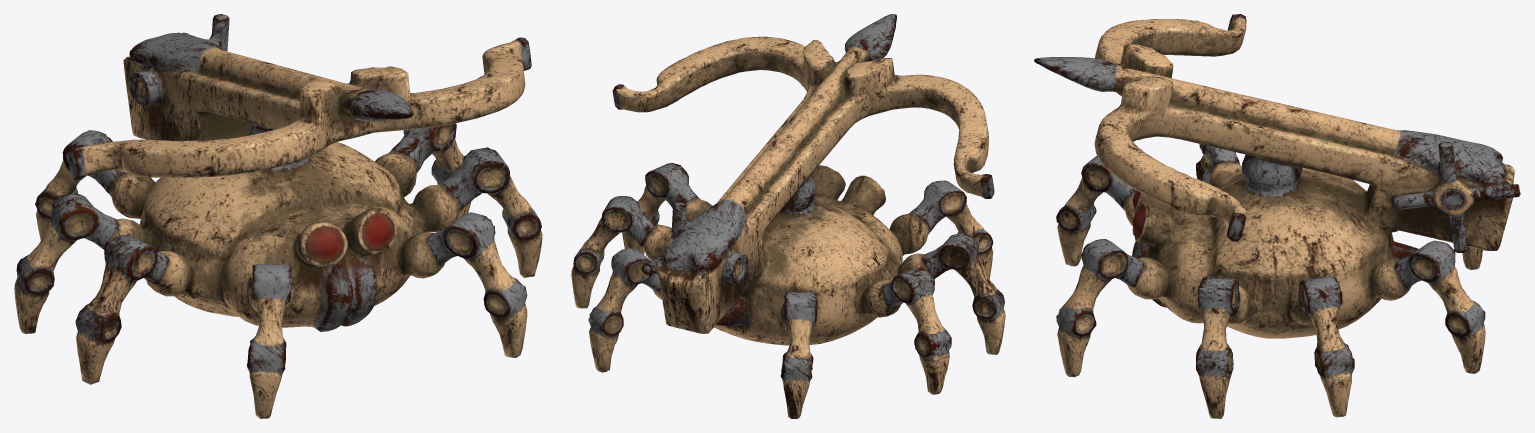
The model's file is MZ4250 - Artificer Spider Familiar - Bronze  - Rusty.glb.
3 views of the same model, side by side, from view 1: azimuth 30°, elevation 25°; view 2: azimuth 150°, elevation 25°; view 3: azimuth 270°, elevation 25° (orthographic). The views are drawn at different scales.
Visible parts, largest first — view 1: Artificer Spider Familiar_low.001; view 2: Artificer Spider Familiar_low.001; view 3: Artificer Spider Familiar_low.001.
Boxes of the visible parts, left/top/right/bottom form: Artificer Spider Familiar_low.001: left=14, top=14, right=542, bottom=418; Artificer Spider Familiar_low.001: left=571, top=14, right=1005, bottom=418; Artificer Spider Familiar_low.001: left=1034, top=14, right=1520, bottom=418.
Size of the model in its own units: 0.9971 by 0.5974 by 1.
1 material, 1 textured.
